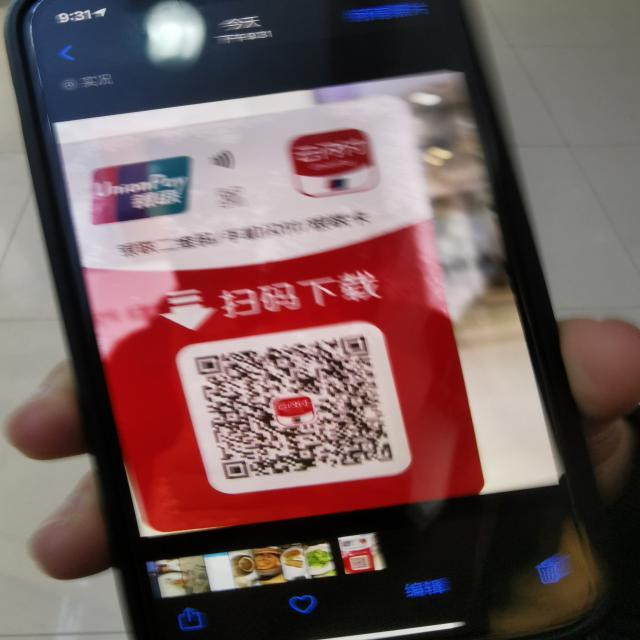qr_code: (193, 336, 394, 480)
